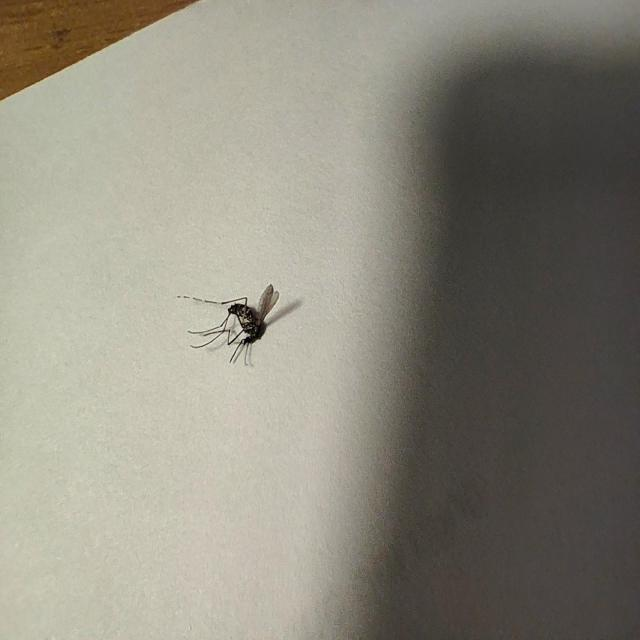albopictus: (176, 275, 286, 372)
